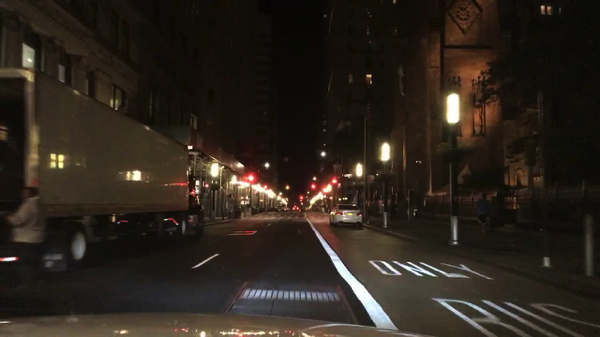car: (329, 205, 363, 228), (275, 205, 283, 212), (269, 206, 278, 212), (292, 206, 300, 212), (304, 207, 311, 212), (282, 206, 288, 211)
person: (3, 186, 48, 318), (477, 192, 491, 235), (489, 195, 503, 235), (389, 195, 399, 222), (225, 192, 235, 219)
traffic light: (248, 172, 254, 183), (331, 176, 336, 184), (310, 184, 316, 189), (298, 194, 303, 200)
truck: (0, 66, 205, 274)
